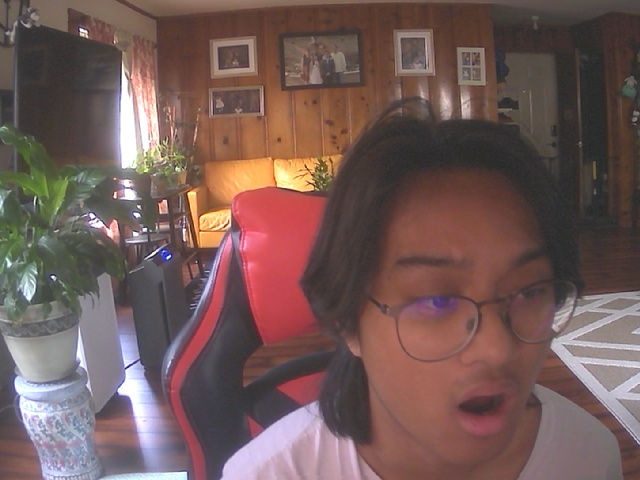fear: (326, 126, 587, 475)
